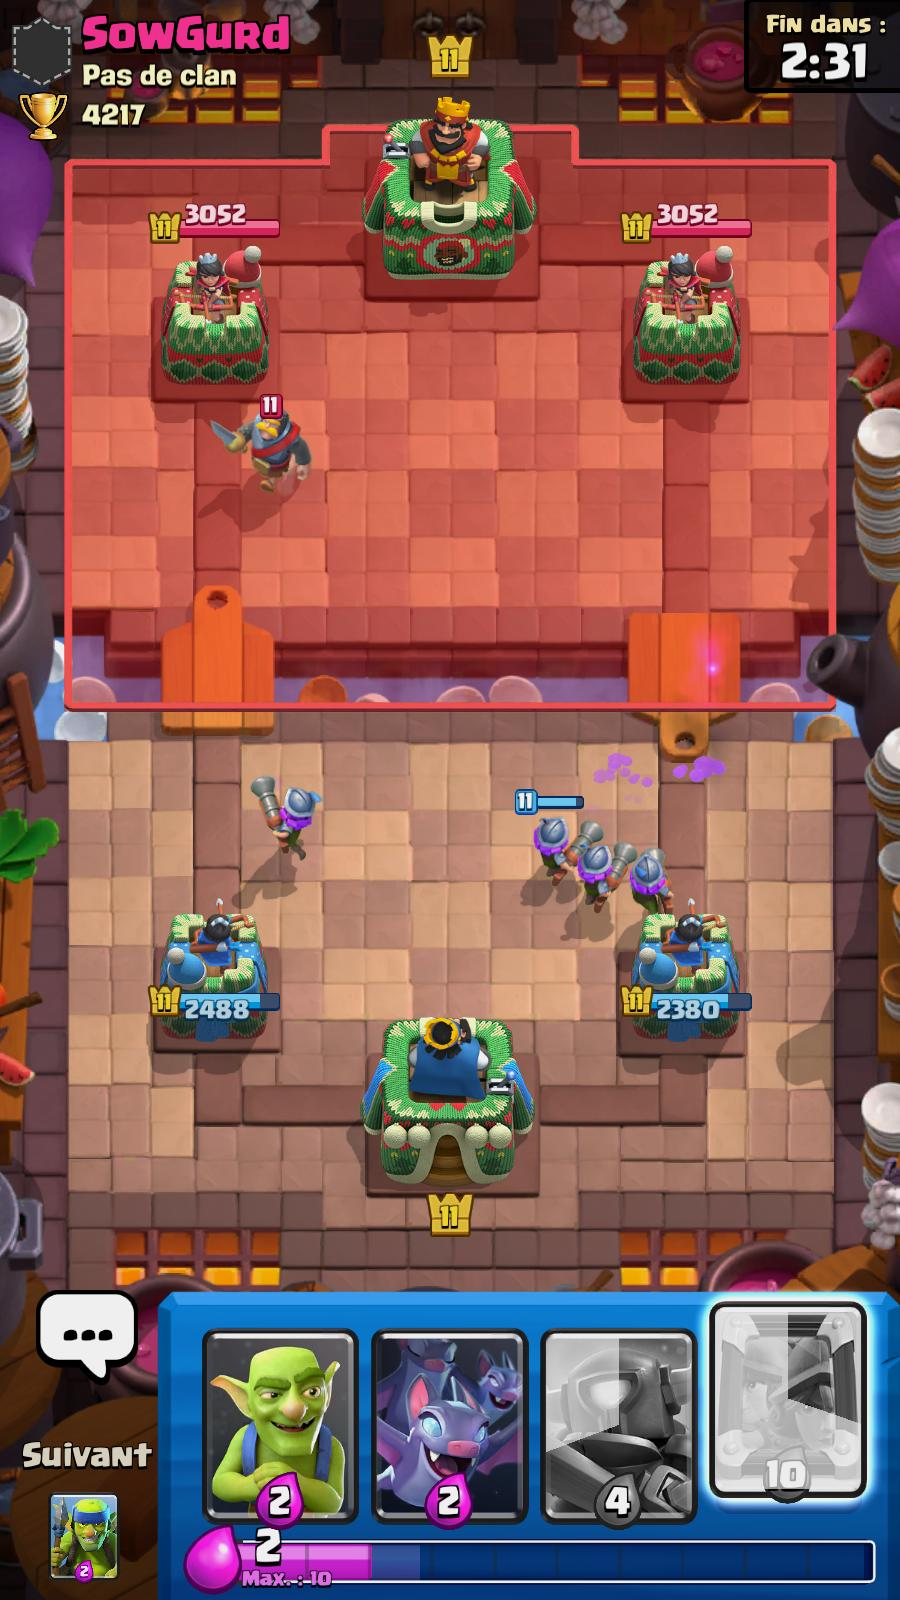chevalier: (211, 400, 310, 490)
mousquetaire: (515, 789, 598, 893), (248, 775, 319, 862), (588, 843, 636, 912), (634, 846, 679, 918)
